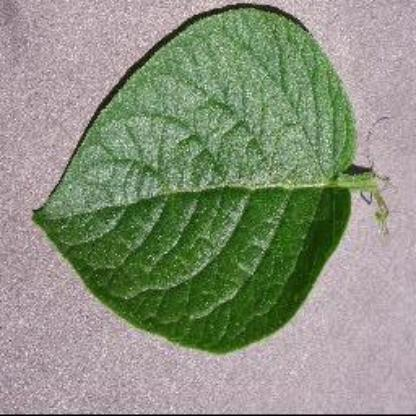Healthy-plant: (34, 6, 380, 370)
